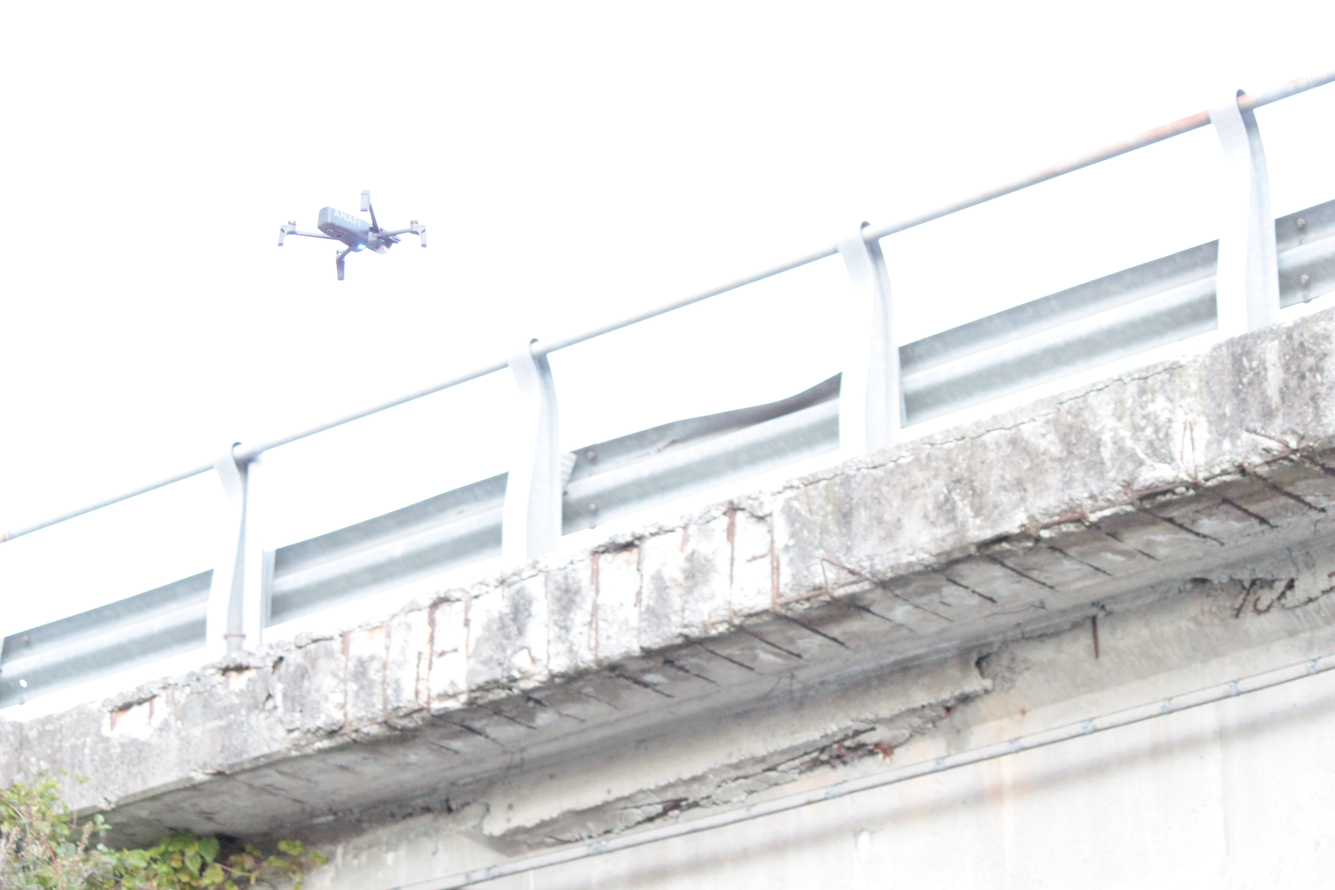Spalling: (14, 292, 1329, 866), (262, 539, 1323, 887)
